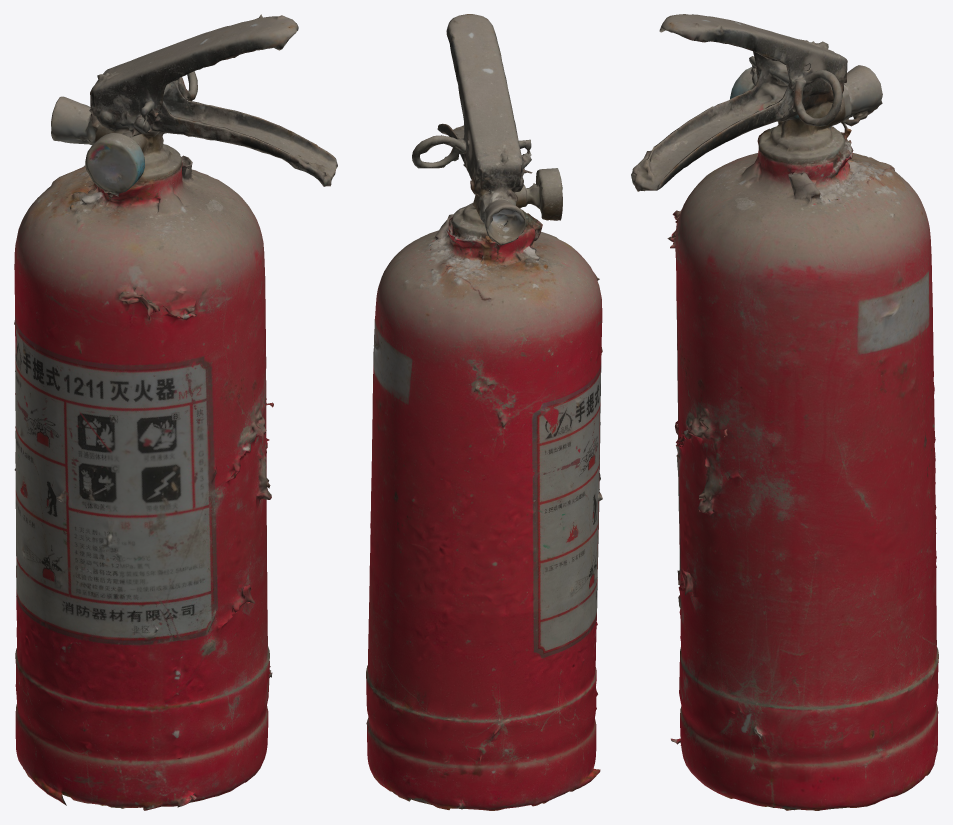
File: PX_Fire_Extinguisher_01_LOD1.fbx
3 renders of one model, left to right at view 1: azimuth 30°, elevation 25°; view 2: azimuth 150°, elevation 25°; view 3: azimuth 270°, elevation 25°, orthographic. The views are drawn at different scales.
Parts seen in each view (by area): view 1: PX_Fire_Extinguisher_01_LOD1; view 2: PX_Fire_Extinguisher_01_LOD1; view 3: PX_Fire_Extinguisher_01_LOD1.
Boxes of the visible parts, bbox=[...] form: PX_Fire_Extinguisher_01_LOD1: bbox=[14, 14, 337, 810]; PX_Fire_Extinguisher_01_LOD1: bbox=[366, 14, 602, 810]; PX_Fire_Extinguisher_01_LOD1: bbox=[631, 14, 938, 810].
Size of the model in its own units: 9.09 by 28.3 by 10.11.
